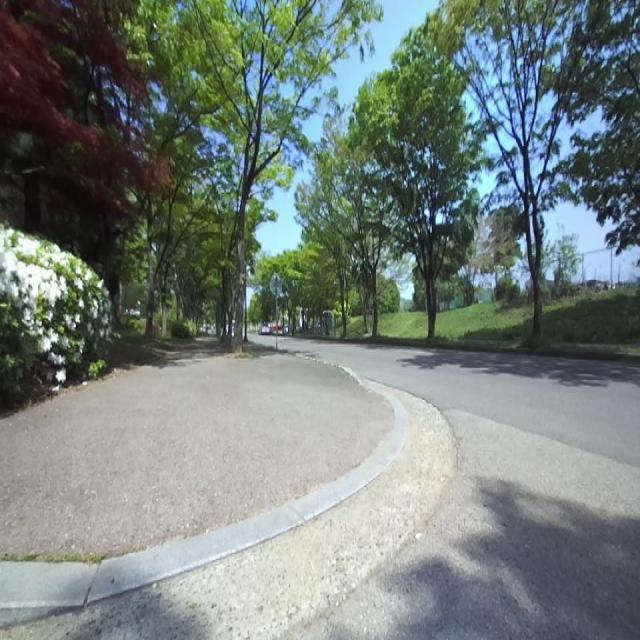sidewalk: (0, 339, 394, 559)
